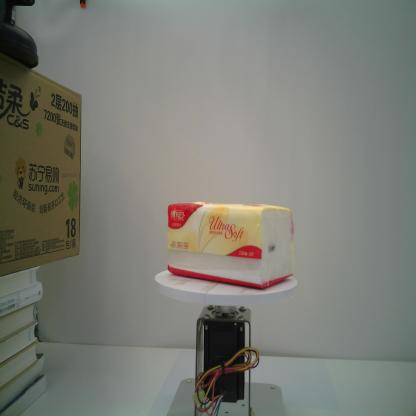Tissue: (166, 201, 294, 290)
